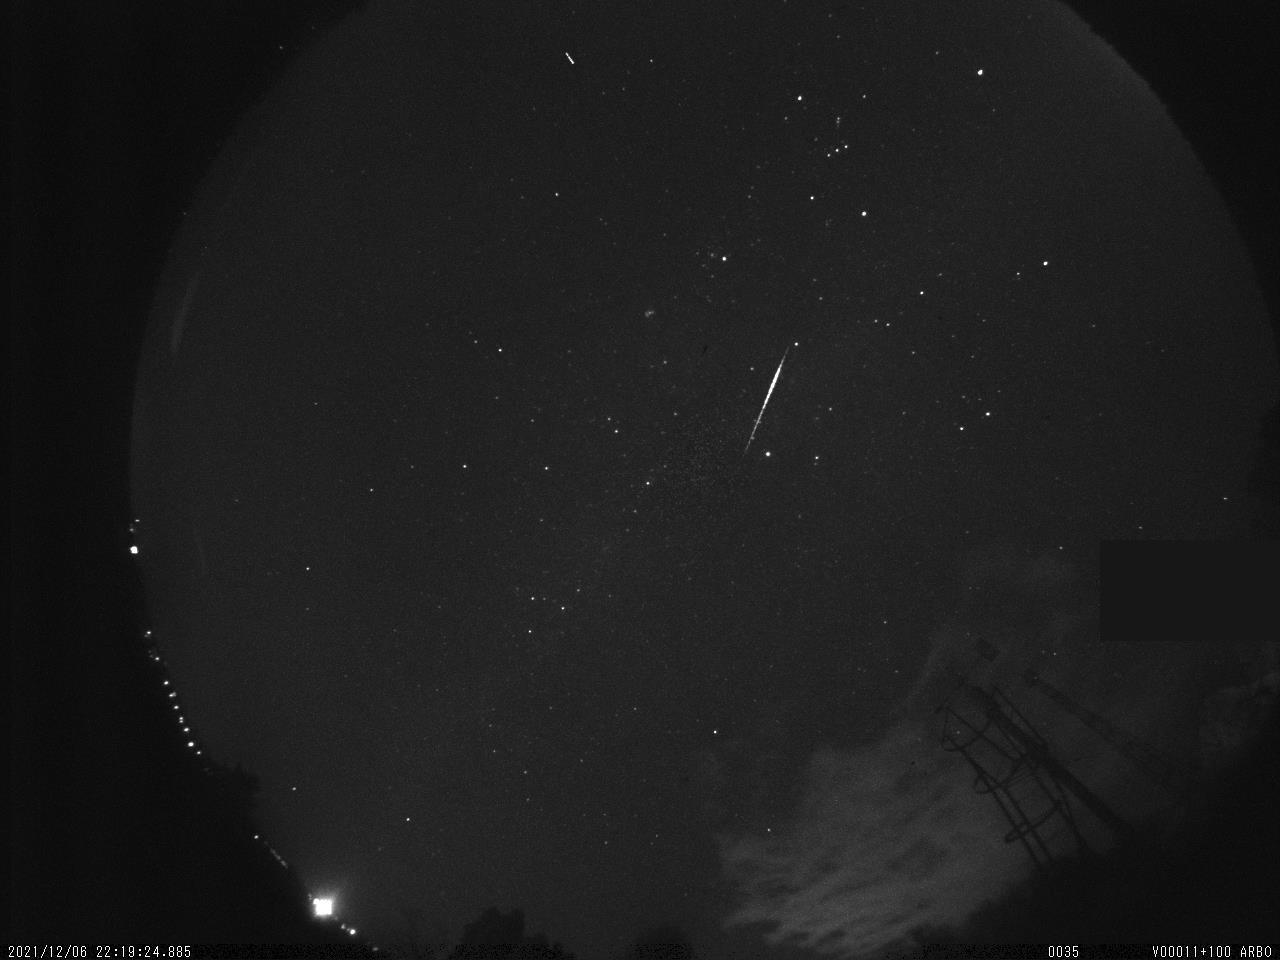meteor: (716, 334, 819, 458)
